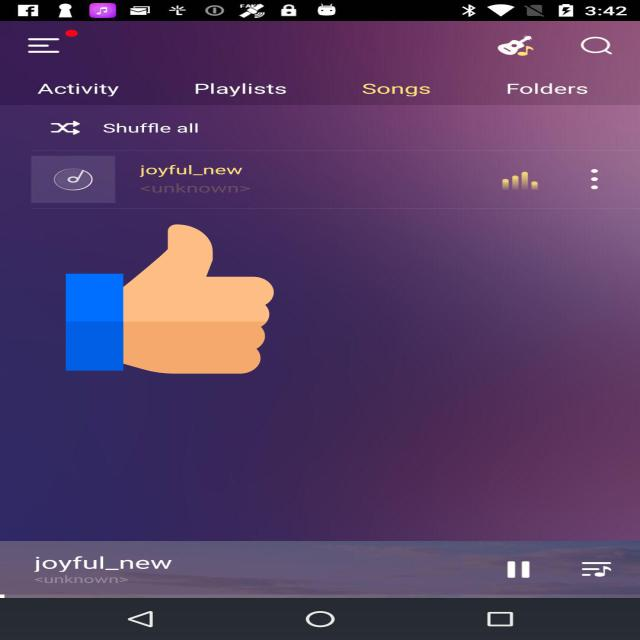privacy zuckering: (66, 221, 274, 377)
